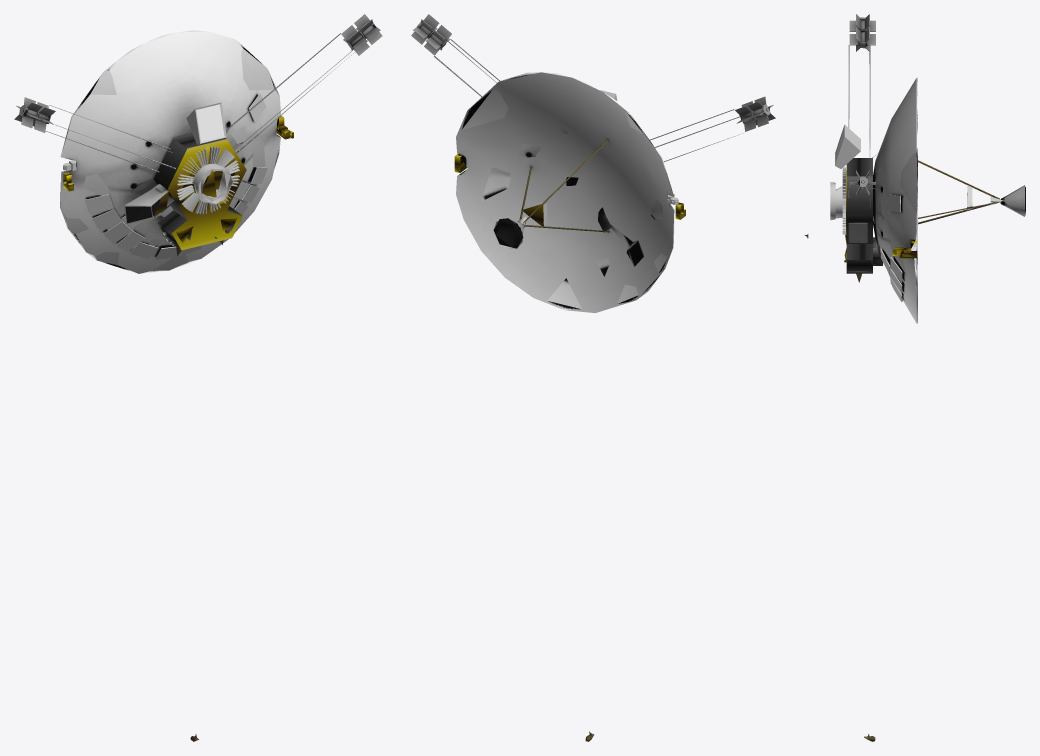
Rendered from pioneer-lite.glb.
The picture shows the model from 3 angles, left to right: view 1: azimuth 30°, elevation 25°; view 2: azimuth 150°, elevation 25°; view 3: azimuth 270°, elevation 25°; orthographic projection. The views are drawn at different scales.
Parts seen in each view (by area): view 1: AO_dish, Norm_silver, Foil_gold, Foil_silver, AO_rtg, Tex_02, Foil_trans, AO_other; view 2: AO_dish, AO_rtg, Tex_02, Tex_black, Foil_gold; view 3: AO_dish, Foil_silver, Norm_silver, Tex_02, AO_rtg, Tex_01, Foil_gold.
Boxes of the visible parts, x1,y1,x2,y2 form: AO_dish: (60, 30, 280, 273); Norm_silver: (63, 93, 267, 259); Foil_gold: (63, 115, 293, 250); Foil_silver: (154, 133, 242, 249); AO_rtg: (14, 14, 382, 132); Tex_02: (46, 33, 356, 741); Foil_trans: (196, 104, 224, 141); AO_other: (124, 184, 174, 223); AO_dish: (456, 72, 674, 313); AO_rtg: (411, 14, 775, 131); Tex_02: (434, 38, 742, 741); Tex_black: (493, 218, 523, 248); Foil_gold: (454, 154, 685, 226); AO_dish: (873, 77, 1024, 323); Foil_silver: (846, 158, 882, 273); Norm_silver: (830, 124, 1003, 301); Tex_02: (804, 38, 999, 741); AO_rtg: (849, 14, 875, 196); Tex_01: (848, 223, 867, 242); Foil_gold: (844, 169, 967, 262).
Size of the model in its own units: 4.52 by 8.25 by 2.54.
10 materials, 8 textured.
